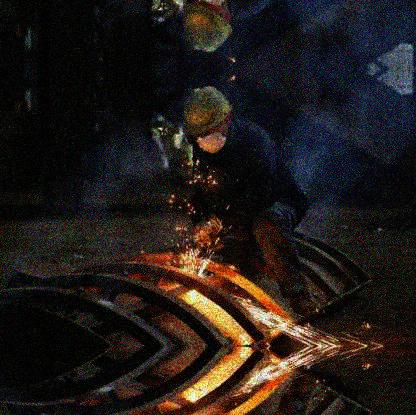helmet: (180, 87, 233, 155), (180, 1, 235, 52)
